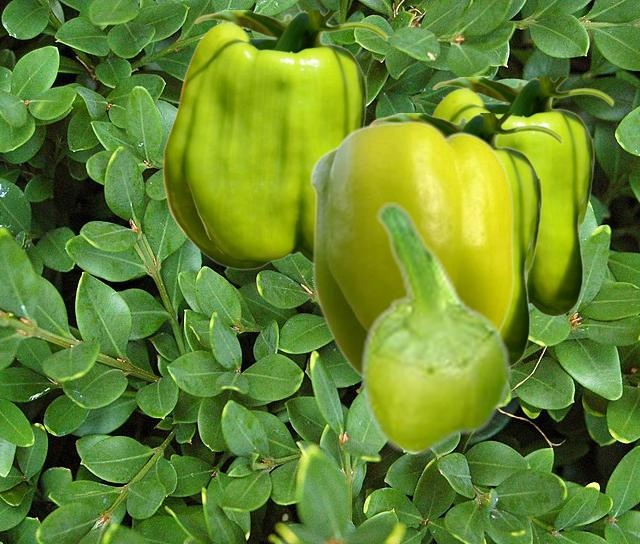bell_pepper: (162, 10, 387, 269), (309, 119, 513, 376), (370, 113, 562, 366), (431, 77, 613, 317), (359, 202, 512, 455)
